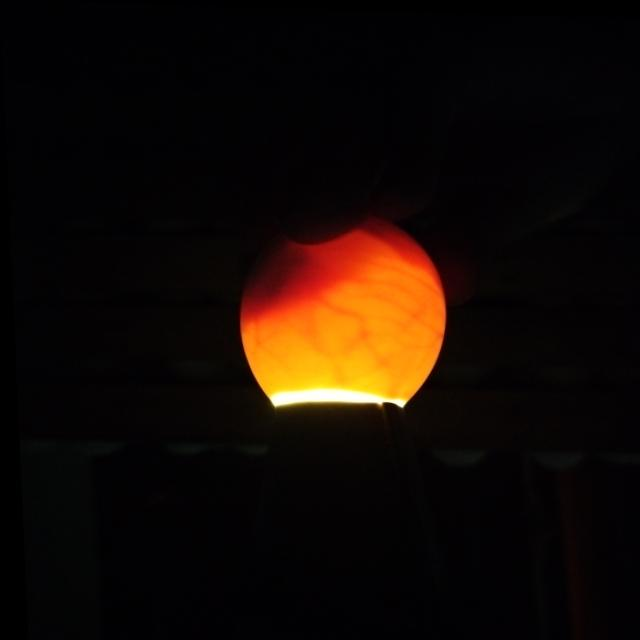Embriao: (235, 205, 440, 317)
